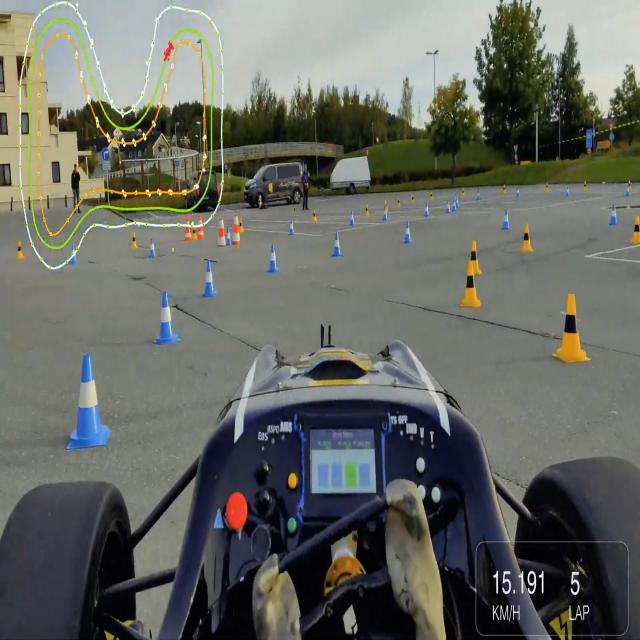blue_cone: (67, 349, 113, 450), (154, 287, 180, 345), (201, 259, 219, 300), (267, 242, 279, 274), (331, 230, 343, 258), (609, 197, 619, 230), (500, 207, 510, 234), (148, 235, 157, 263), (403, 220, 412, 246), (67, 238, 76, 264), (288, 215, 295, 239), (224, 226, 232, 247), (348, 210, 356, 228), (382, 204, 388, 224), (424, 198, 429, 218), (226, 226, 231, 246), (445, 197, 450, 216), (565, 184, 570, 200), (476, 188, 481, 202), (452, 197, 456, 212), (455, 196, 459, 210), (516, 187, 519, 200)
large_orange_cone: (217, 216, 226, 248), (232, 214, 240, 246), (184, 214, 191, 242), (197, 213, 204, 240)
yellow_cone: (552, 291, 592, 367), (461, 260, 482, 311), (282, 389, 331, 401), (468, 239, 483, 275), (521, 222, 533, 253), (629, 214, 640, 246), (14, 239, 25, 261), (191, 222, 198, 244), (238, 215, 244, 236), (131, 230, 137, 249), (312, 207, 318, 226), (383, 198, 389, 214), (364, 202, 369, 220), (410, 194, 415, 208), (396, 195, 401, 208), (429, 189, 433, 203), (461, 186, 465, 200), (545, 181, 549, 195), (502, 183, 506, 196)
